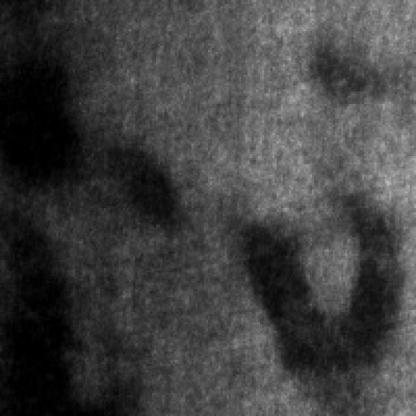patches: (235, 208, 399, 374), (2, 198, 75, 412), (0, 18, 79, 185), (107, 139, 174, 227), (310, 35, 370, 94)
